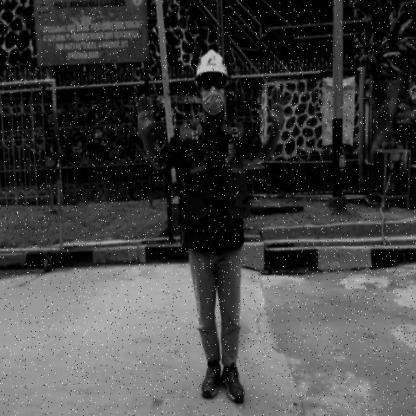boots: (221, 362, 246, 406), (200, 358, 221, 400)
helmet: (195, 48, 229, 80)
mask: (201, 87, 224, 116)
vest: (180, 152, 254, 222)
